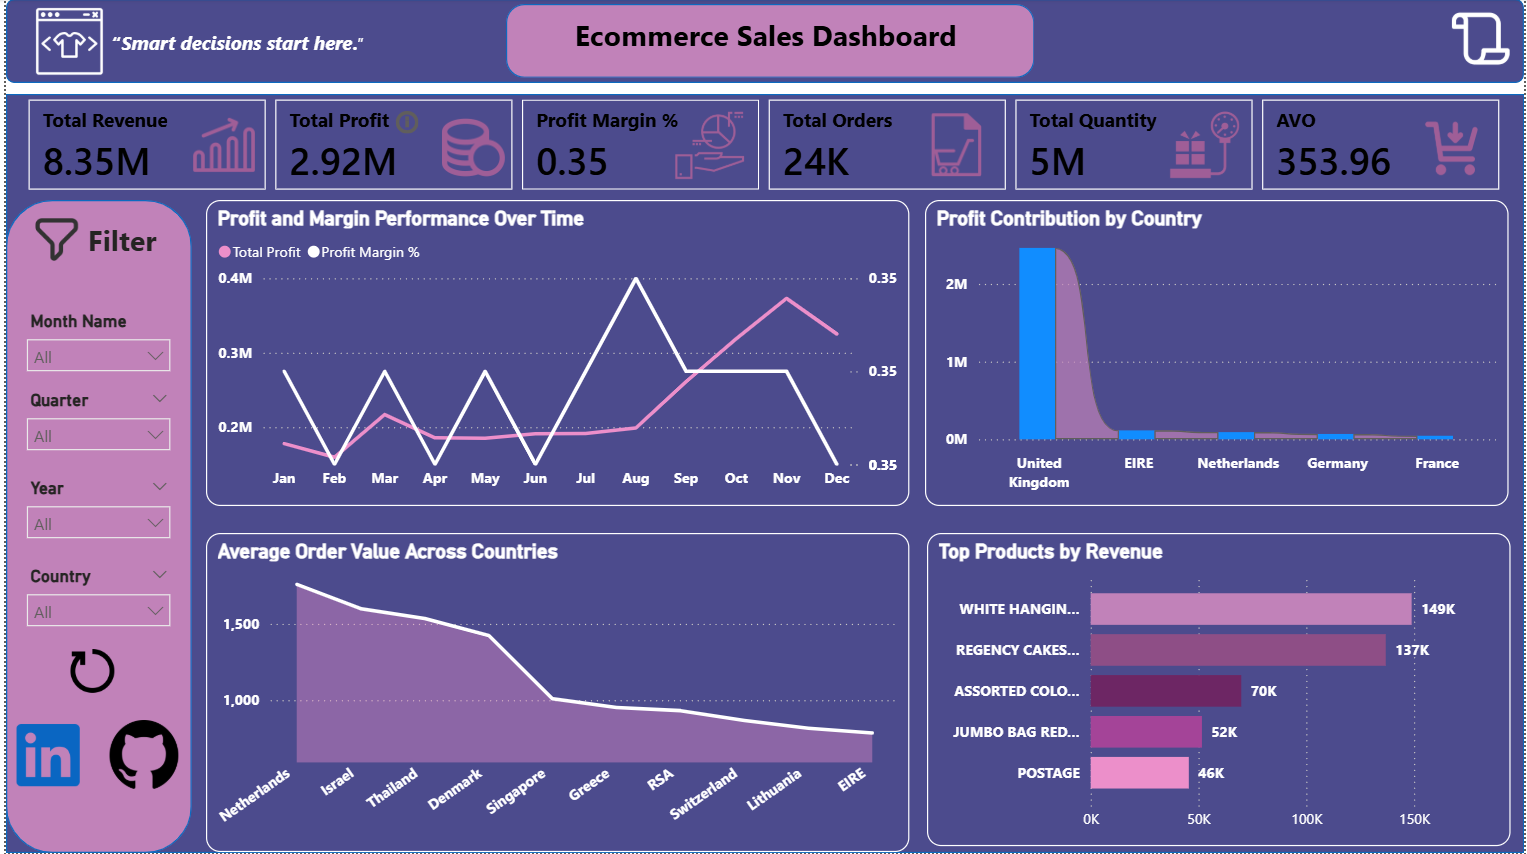

The dashboard page shown, as its layout file describes it:
{"tool":"powerbi","page":{"name":"Page 1","canvas":[1280,720],"ordinal":0},"visuals":[{"type":"shape","box":[0,79.8,1280,640],"z":0},{"type":"shape","box":[0,0,1279.7,70.7],"z":1000},{"type":"shape","box":[421.2,3.9,445.5,62.2],"z":2000},{"type":"textbox","box":[474.5,8.8,424.4,80.6],"z":3000},{"type":"image","box":[0,4.5,106.6,62.7],"z":4000},{"type":"textbox","box":[84.2,21.5,275.8,45.7],"z":5000},{"type":"cardVisual","fields":{"Data":["Ecommerce_Sales.Total Revenue","Ecommerce_Sales.Total Profit","Ecommerce_Sales.Profit Margin %","Ecommerce_Sales.Total Orders","Ecommerce_Sales.Total Quantity","Ecommerce_Sales.Average Order Value"]},"box":[0,66.1,1280,114.8],"z":6000},{"type":"actionButton","box":[324.9,89.5,27.2,29.2],"z":7000},{"type":"image","box":[367.7,98.2,53.5,53.5],"z":8000},{"type":"image","box":[156.6,97.3,53.5,51.6],"z":9000},{"type":"image","box":[557.3,94.3,72,58.4],"z":10000},{"type":"image","box":[775.2,89.5,53.5,67.1],"z":11000},{"type":"image","box":[977.5,94.3,67.1,57.4],"z":12000},{"type":"image","box":[1192.5,97.3,53.5,58.4],"z":13000},{"type":"ribbonChart","title":"Profit Contribution by Country","fields":{"Category":["Ecommerce_Sales.Country"],"Y":["Ecommerce_Sales.Total Profit"]},"box":[775.2,169.2,492.2,257.8],"z":14000},{"type":"lineChart","title":"Profit and Margin Performance Over Time","fields":{"Y":["Ecommerce_Sales.Total Profit"],"Y2":["Ecommerce_Sales.Profit Margin %"],"Category":["DateTable.Month Name"]},"box":[168.4,169.3,592.8,257.9],"z":15000},{"type":"barChart","title":"Top Products by Revenue","fields":{"Category":["Ecommerce_Sales.Product Name"],"Y":["Ecommerce_Sales.Total Revenue"]},"box":[776.4,450.4,491.6,264.2],"z":16000},{"type":"stackedAreaChart","title":"Average Order Value Across Countries","fields":{"Y":["Ecommerce_Sales.Average Order Value"],"Category":["Ecommerce_Sales.Country"]},"box":[168.3,450.3,593.3,269.4],"z":17000},{"type":"shape","box":[0,169.2,156.6,550.5],"z":18000},{"type":"slicer","fields":{"Values":["DateTable.Month Name"]},"box":[7.8,258.7,141,73.9],"z":19000},{"type":"slicer","fields":{"Values":["DateTable.Quarter"]},"box":[7.8,325.8,141,73.9],"z":20000},{"type":"slicer","fields":{"Values":["Ecommerce_Sales.Country"]},"box":[7.8,473.7,141,73.9],"z":21000},{"type":"slicer","fields":{"Values":["DateTable.Year"]},"box":[7.8,399.8,141,73.9],"z":22000},{"type":"textbox","box":[64.2,180.9,110.9,52.5],"z":23000},{"type":"image","box":[14.6,180.9,56.4,42.8],"z":24000},{"type":"image","box":[46.6,548.1,52.8,36.7],"z":25000},{"type":"image","box":[0,593.7,70.7,87.8],"z":26000},{"type":"image","box":[1207.2,3.6,72.5,60],"z":27000},{"type":"image","box":[84.2,608.1,64.5,58.2],"z":28001}]}

Visuals, with their boxes in screenshot pixels (x1, y1, x2, y2), scaled from the page's 1280x720 canvas onto the 1527x854 screenshot:
shape: l=0, t=95, r=1526, b=853
shape: l=0, t=0, r=1526, b=84
shape: l=502, t=5, r=1034, b=78
textbox: l=566, t=10, r=1072, b=106
image: l=0, t=5, r=127, b=80
textbox: l=100, t=26, r=429, b=80
cardVisual - Ecommerce_Sales.Total Revenue x Ecommerce_Sales.Total Profit: l=0, t=78, r=1526, b=215
actionButton: l=388, t=106, r=420, b=141
image: l=439, t=116, r=502, b=180
image: l=187, t=115, r=251, b=177
image: l=665, t=112, r=751, b=181
image: l=925, t=106, r=989, b=186
image: l=1166, t=112, r=1246, b=180
image: l=1423, t=115, r=1486, b=185
"Profit Contribution by Country" ribbonChart: l=925, t=201, r=1512, b=506
"Profit and Margin Performance Over Time" lineChart: l=201, t=201, r=908, b=507
"Top Products by Revenue" barChart: l=926, t=534, r=1513, b=848
"Average Order Value Across Countries" stackedAreaChart: l=201, t=534, r=909, b=853
shape: l=0, t=201, r=187, b=853
slicer - DateTable.Month Name: l=9, t=307, r=178, b=395
slicer - DateTable.Quarter: l=9, t=386, r=178, b=474
slicer - Ecommerce_Sales.Country: l=9, t=562, r=178, b=650
slicer - DateTable.Year: l=9, t=474, r=178, b=562
textbox: l=77, t=215, r=209, b=277
image: l=17, t=215, r=85, b=265
image: l=56, t=650, r=119, b=694
image: l=0, t=704, r=84, b=808
image: l=1440, t=4, r=1526, b=75
image: l=100, t=721, r=177, b=790
